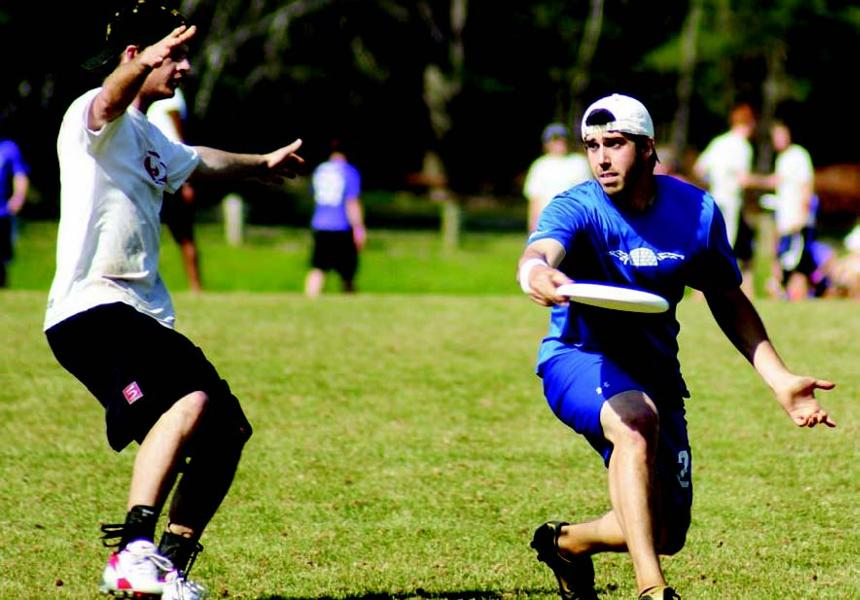person: (514, 94, 841, 600)
